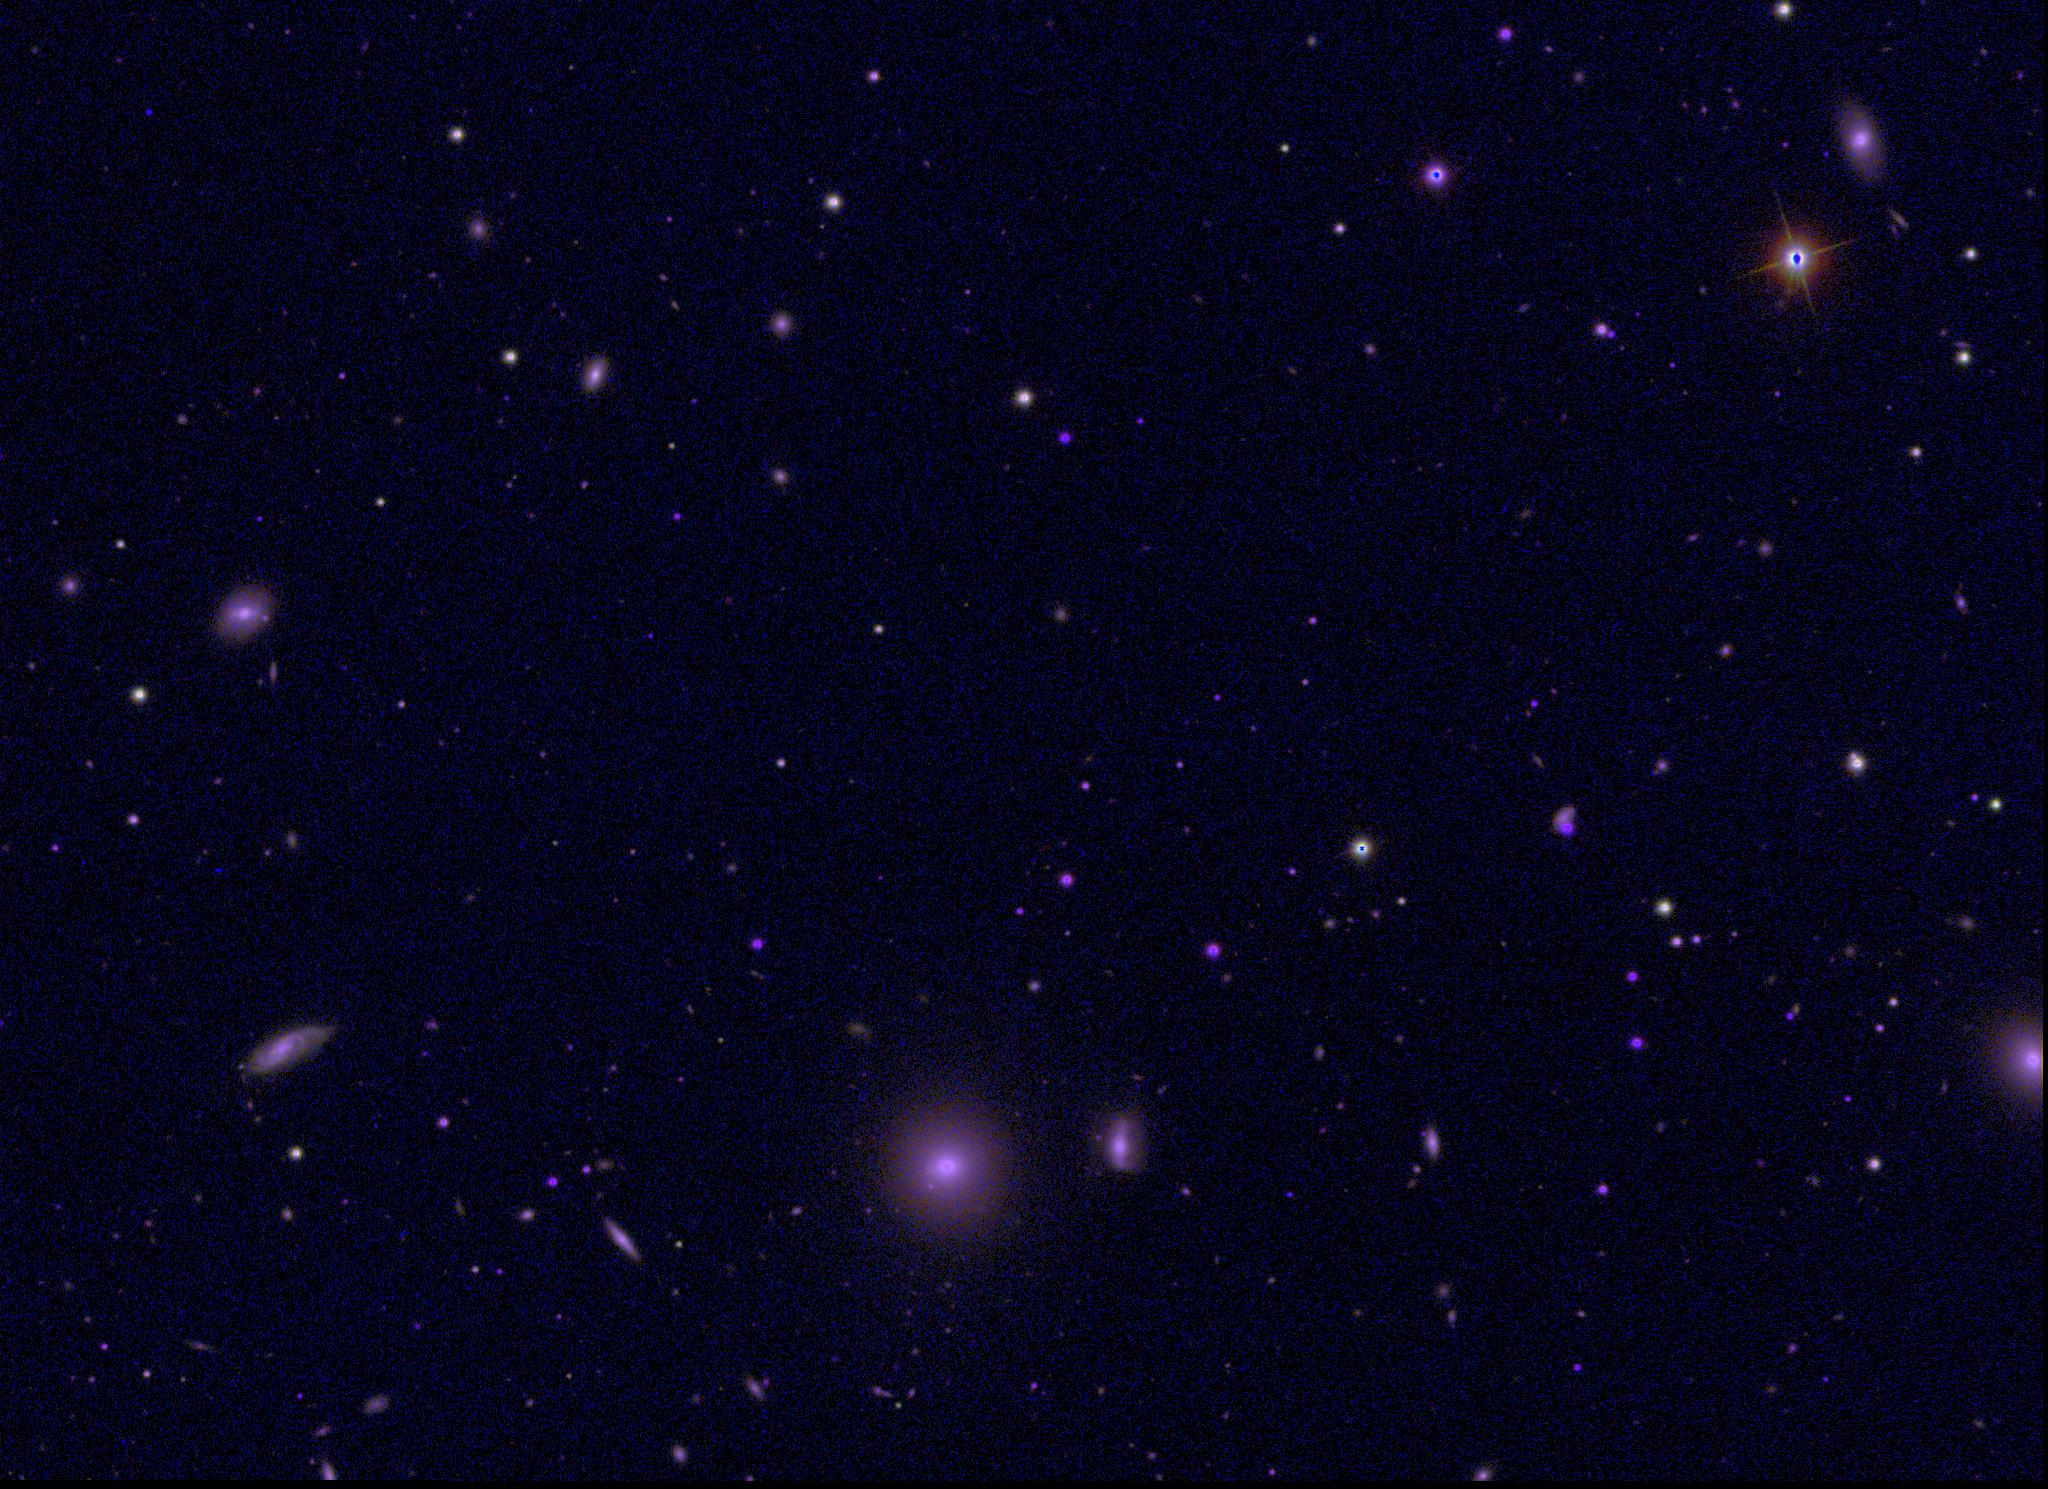L: (142, 103, 156, 118)
